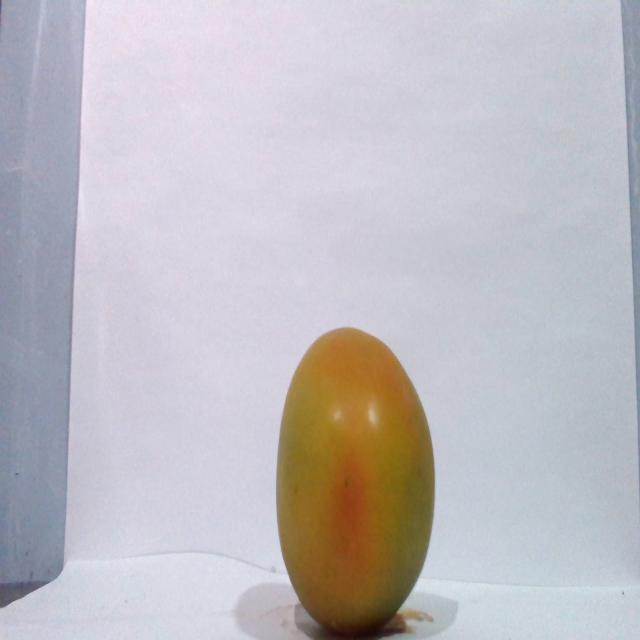Red: (273, 325, 436, 635)
